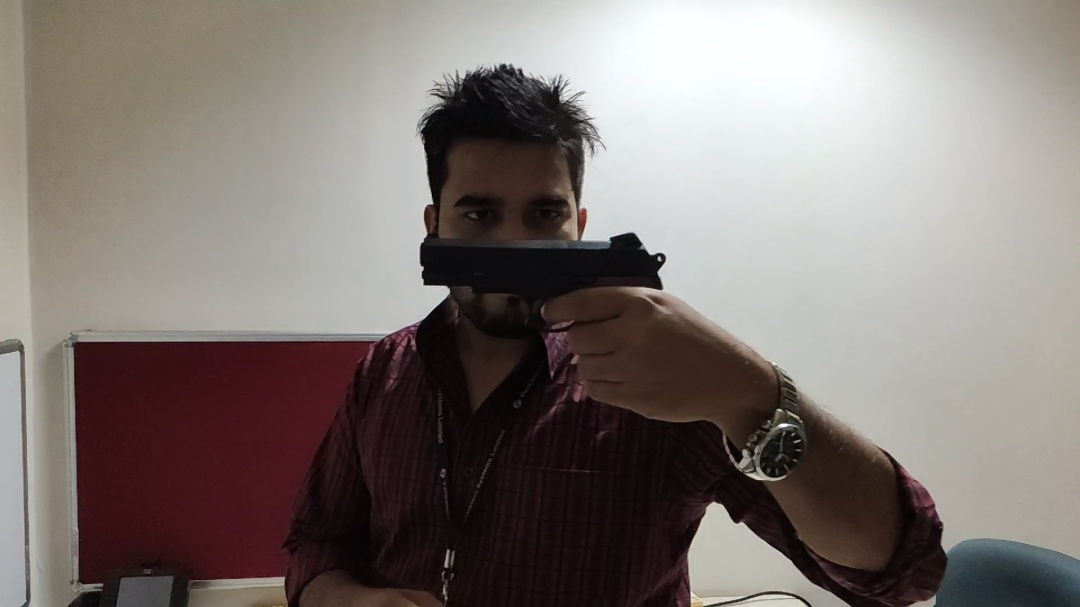gun: (419, 231, 665, 422)
